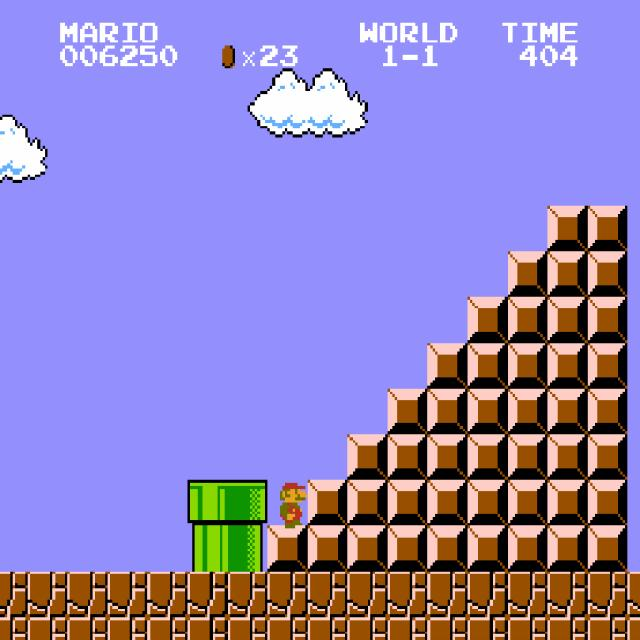hard_block: (307, 480, 348, 526), (347, 434, 388, 480), (347, 480, 388, 526), (387, 434, 428, 480), (387, 480, 428, 526), (427, 434, 468, 480), (427, 480, 468, 526), (467, 297, 508, 343), (467, 434, 508, 480), (467, 480, 508, 526), (507, 297, 548, 343), (507, 434, 548, 480), (507, 480, 548, 526), (547, 297, 588, 343), (547, 434, 588, 480), (547, 480, 588, 526), (587, 297, 628, 343), (587, 434, 628, 480), (587, 480, 628, 526), (267, 526, 308, 571), (307, 526, 348, 571), (347, 526, 388, 571), (387, 389, 428, 434), (387, 526, 428, 571), (427, 343, 468, 388), (427, 389, 468, 434), (427, 526, 468, 571), (467, 343, 508, 388), (467, 389, 508, 434), (467, 526, 508, 571), (507, 252, 548, 297), (507, 343, 548, 388), (507, 389, 548, 434), (507, 526, 548, 571), (547, 206, 588, 251), (547, 252, 588, 297), (547, 343, 588, 388), (547, 389, 588, 434), (547, 526, 588, 571), (587, 206, 628, 251), (587, 252, 628, 297), (587, 343, 628, 388), (587, 389, 628, 434), (587, 526, 628, 571)
little_mario: (270, 480, 312, 528)
pipe: (187, 526, 228, 571), (227, 526, 268, 571)
pipe_head: (187, 480, 228, 526), (227, 480, 268, 526)
undestructible_block: (27, 572, 68, 617), (67, 572, 108, 617), (107, 572, 148, 617), (147, 572, 188, 617), (187, 572, 228, 617), (227, 572, 268, 617), (267, 572, 308, 617), (307, 572, 348, 617), (347, 572, 388, 617), (387, 572, 428, 617), (427, 572, 468, 617), (467, 572, 508, 617), (507, 572, 548, 617), (547, 572, 588, 617), (587, 572, 628, 617), (0, 572, 28, 617), (27, 617, 68, 640), (67, 617, 108, 640), (107, 617, 148, 640), (147, 617, 188, 640), (187, 617, 228, 640), (227, 617, 268, 640), (267, 617, 308, 640), (307, 617, 348, 640), (347, 617, 388, 640), (387, 617, 428, 640), (427, 617, 468, 640), (467, 617, 508, 640), (507, 617, 548, 640), (547, 617, 588, 640), (587, 617, 628, 640), (0, 617, 28, 640), (627, 572, 640, 617), (627, 617, 640, 640)
